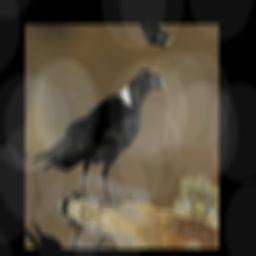Crow: (28, 37, 168, 226)
